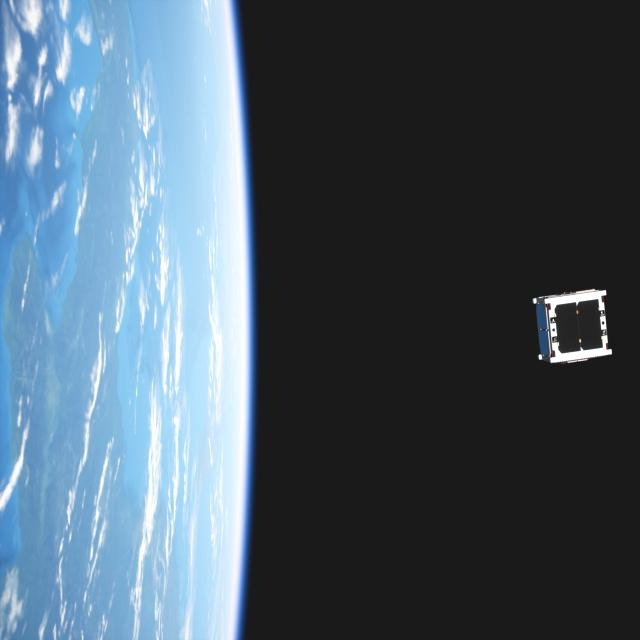medium_debris: (527, 282, 617, 368)
